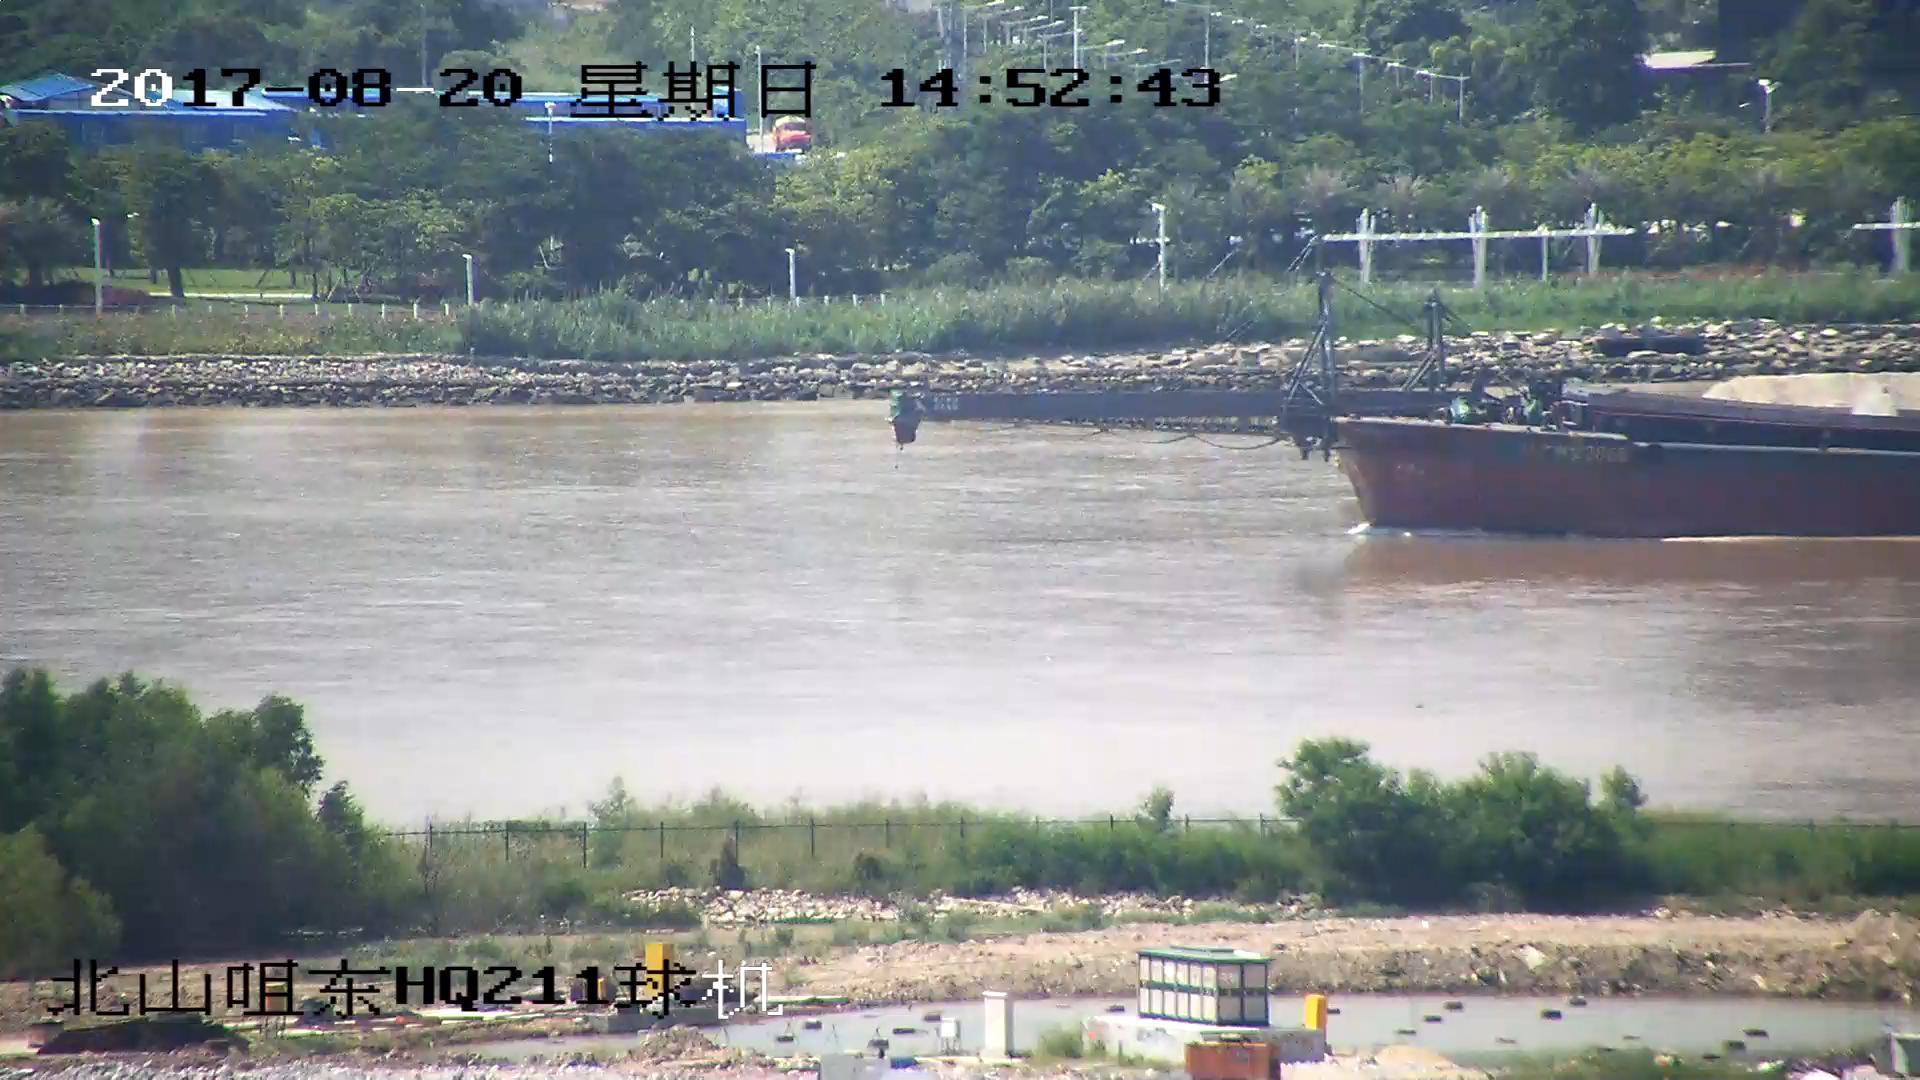Ship: (903, 280, 1920, 545), (1036, 368, 1920, 469)
